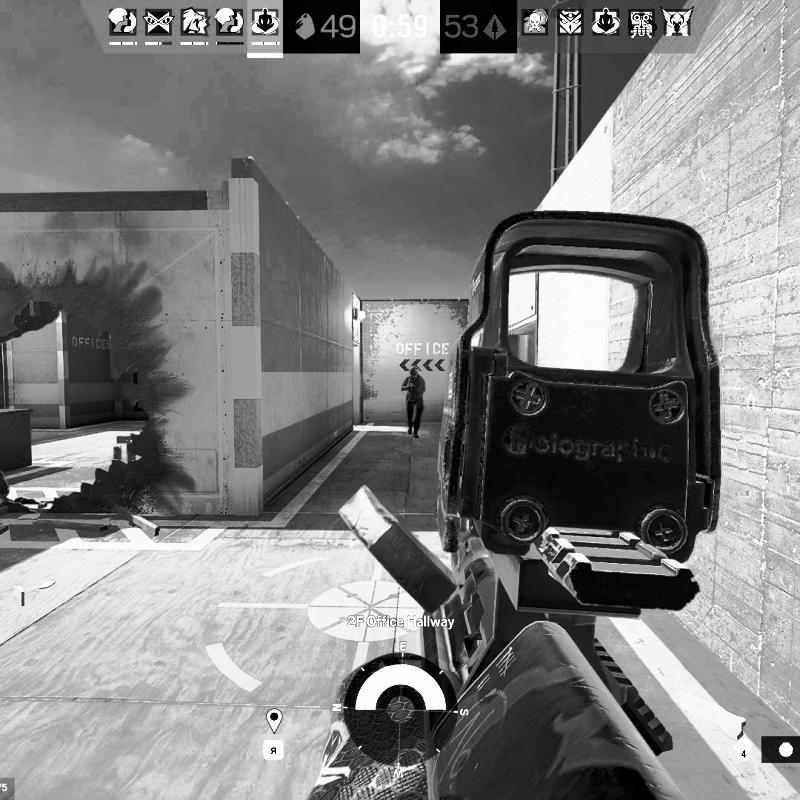Character: (401, 368, 428, 440)
Head: (410, 369, 419, 379)
